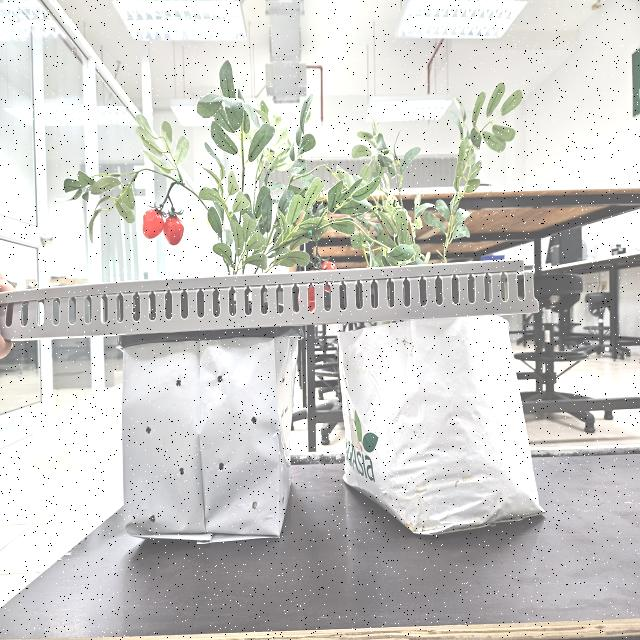Obstacle: (0, 264, 539, 343)
Soilbag: (337, 315, 544, 539), (120, 338, 290, 543)
Tomato: (138, 207, 185, 247)
plant: (62, 61, 396, 276), (326, 82, 524, 268)
